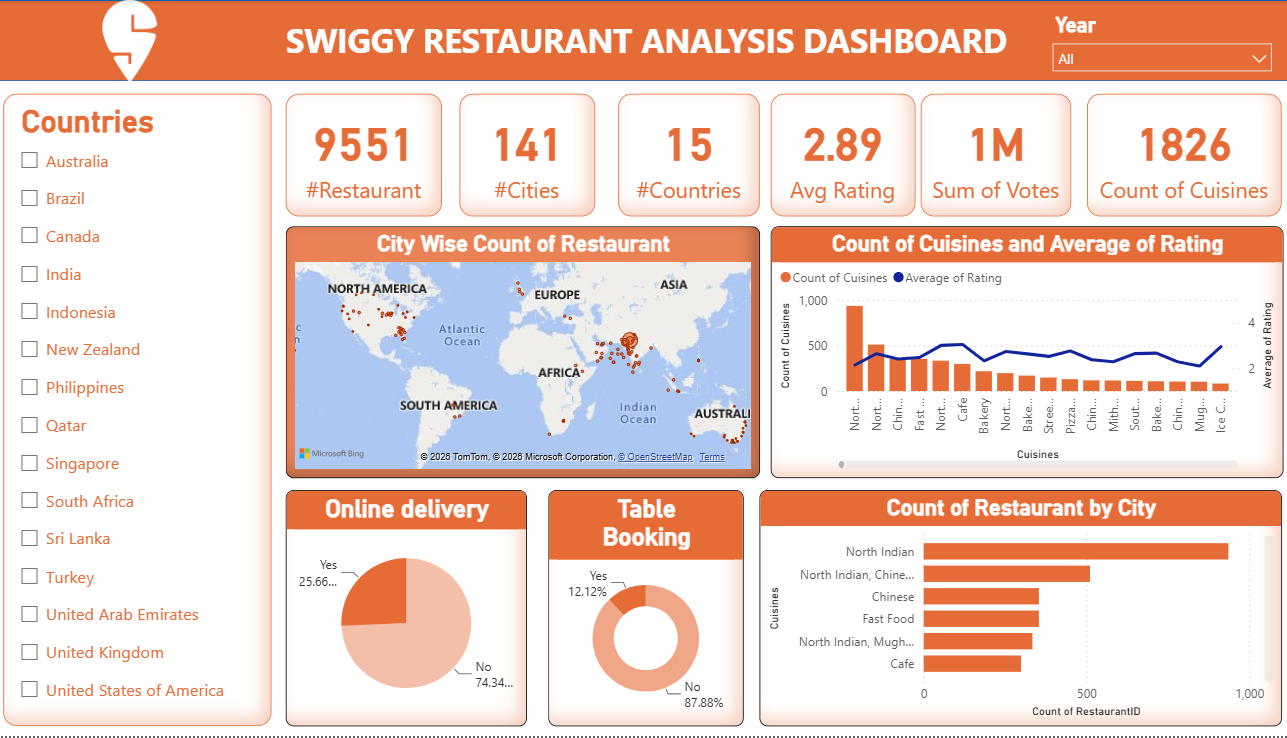

The dashboard page shown, as its layout file describes it:
{"tool":"powerbi","page":{"name":"Page 1","canvas":[1280,720],"ordinal":0},"visuals":[{"type":"shape","box":[0,0,1280.3,79.5],"z":0},{"type":"textbox","box":[0,12.2,1280.3,67.3],"z":1000},{"type":"image","box":[38.8,0,191.2,80],"z":2000},{"type":"card","fields":{"Values":["CountNonNull(Restaurants.RestaurantID)"]},"box":[287.4,91.7,152.9,119.8],"z":3000},{"type":"card","fields":{"Values":["CountNonNull(Countries.countryID)"]},"box":[612.5,91.2,138.8,120],"z":4000},{"type":"card","fields":{"Values":["Count(Restaurants.City)"]},"box":[457.5,91.2,132.5,120],"z":5000},{"type":"card","fields":{"Values":["Avg(Restaurants.Rating)"]},"box":[761.2,91.2,141.2,120],"z":6000},{"type":"card","fields":{"Values":["Sum(Restaurants.Votes)"]},"box":[908.8,91.2,147.5,120],"z":7000},{"type":"card","fields":{"Values":["Count(Restaurants.Cuisines)"]},"box":[1071.2,91.7,190.8,119.8],"z":8000},{"type":"map","title":"City Wise Count of Restaurant","fields":{"Size":["Count(Restaurants.RestaurantID)"],"Category":["Restaurants.City"],"Y":["Avg(Restaurants.Latitude)"],"X":["Avg(Restaurants.Longitude)"]},"box":[287.5,221.2,463.8,246.2],"z":9000},{"type":"lineStackedColumnComboChart","title":"Count of Cuisines and Average of Rating","fields":{"Category":["Restaurants.Cuisines"],"Y":["CountNonNull(Restaurants.Cuisines)"],"Y2":["Avg(Restaurants.Rating)"]},"box":[761.2,221.2,501.2,246.2],"z":10000},{"type":"clusteredBarChart","title":"Count of Restaurant by City","fields":{"Category":["Restaurants.Cuisines"],"Y":["CountNonNull(Restaurants.RestaurantID)"]},"box":[751.2,478.8,511.2,231.2],"z":11000},{"type":"pieChart","title":"Online delivery","fields":{"Category":["Restaurants.Has_Online_delivery"],"Y":["CountNonNull(Restaurants.RestaurantID)"]},"box":[287.5,478.8,236.2,231.2],"z":12000},{"type":"donutChart","title":"Table Booking","fields":{"Category":["Restaurants.Has_Table_booking"],"Y":["CountNonNull(Restaurants.RestaurantID)"]},"box":[543.8,478.8,191.2,231.2],"z":13000},{"type":"slicer","fields":{"Values":["Countries.country name"]},"box":[11.2,91.2,262.5,618.8],"z":14000},{"type":"slicer","fields":{"Values":["Restaurants.Datekey_Opening.Variation.Date Hierarchy.Year"]},"box":[1027.2,7.3,234.8,67.3],"z":15000}]}

Visuals, with their boxes in screenshot pixels (x1, y1, x2, y2), scaled from the page's 1280x720 canvas onto the 1287x738 screenshot:
shape: bbox=[0, 0, 1286, 81]
textbox: bbox=[0, 13, 1286, 81]
image: bbox=[39, 0, 231, 82]
card - CountNonNull(Restaurants.RestaurantID): bbox=[289, 94, 443, 217]
card - CountNonNull(Countries.countryID): bbox=[616, 93, 755, 216]
card - Count(Restaurants.City): bbox=[460, 93, 593, 216]
card - Avg(Restaurants.Rating): bbox=[765, 93, 907, 216]
card - Sum(Restaurants.Votes): bbox=[914, 93, 1062, 216]
card - Count(Restaurants.Cuisines): bbox=[1077, 94, 1269, 217]
"City Wise Count of Restaurant" map: bbox=[289, 227, 755, 479]
"Count of Cuisines and Average of Rating" lineStackedColumnComboChart: bbox=[765, 227, 1269, 479]
"Count of Restaurant by City" clusteredBarChart: bbox=[755, 491, 1269, 728]
"Online delivery" pieChart: bbox=[289, 491, 527, 728]
"Table Booking" donutChart: bbox=[547, 491, 739, 728]
slicer - Countries.country name: bbox=[11, 93, 275, 728]
slicer - Restaurants.Datekey_Opening.Variation.Date Hierarchy.Year: bbox=[1033, 7, 1269, 76]
